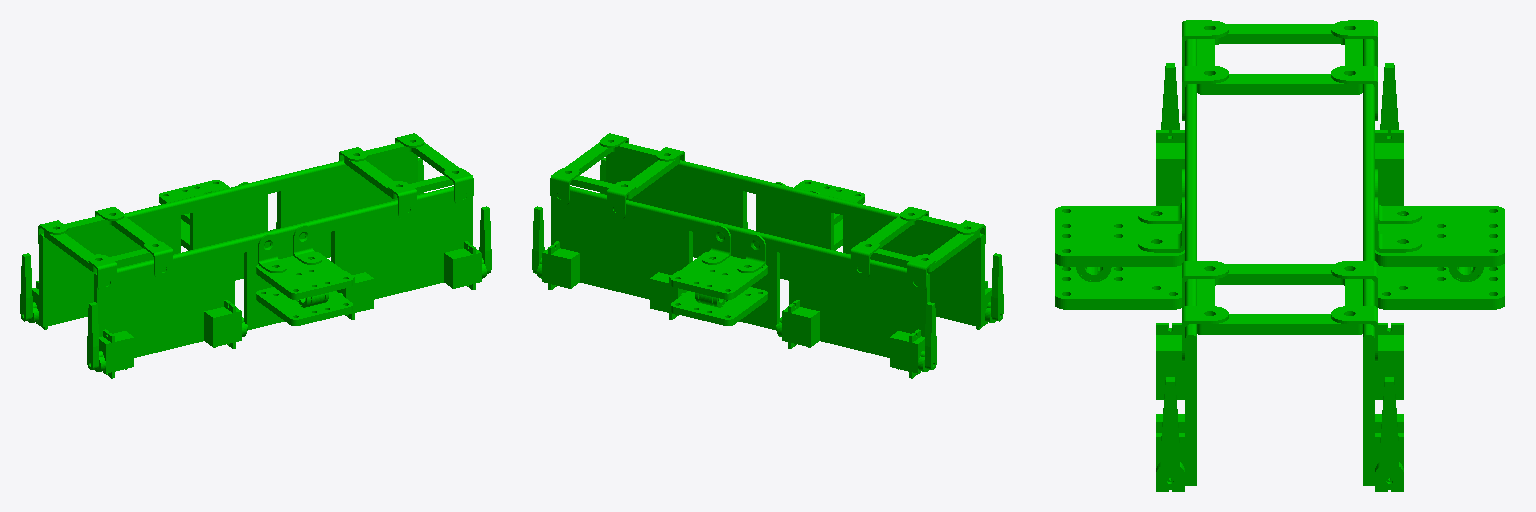
The robot description file, URDF, robot "mira":
<?xml version="1.0"?>
<robot name="mira">

    <material name="blue">
        <color rgba="0 0 0.8 1"/>
    </material>
    <material name="red">
        <color rgba="0.8 0 0 1"/>
    </material>
    <material name="green">
        <color rgba="0 0.8 0 1"/>
    </material>
    <material name="grey">
        <color rgba="0.75 0.75 0.75 1"/>
    </material>
    <material name="white">
        <color rgba="1.0 1.0 1.0 1"/>
    </material>
    <material name="black">
        <color rgba="0 0 0 1"/>
    </material>

	<!-- * * * Link Definitions * * * -->
    <link name="baseAxeR_link">

        <visual>
            <origin rpy="0 0 0" xyz="0 0.0785 0"/>
            <geometry>
                <mesh filename="package://my_egg_description/models/meshes/baseAxe.dae" />
            </geometry>
            <material name="green"/>
        </visual>
	</link>

    <link name="AxeL_link">

        <visual>
            <origin rpy="0 0 0" xyz="0 -0.0785 0"/>
            <geometry>
                <mesh filename="package://my_egg_description/models/meshes/baseAxe.dae" />
            </geometry>
            <material name="green"/>
        </visual>
	</link>

    <joint name="symetric_axe_joint" type="fixed">
    	<parent link="baseAxeR_link"/>
    	<child link="AxeL_link"/>
        <origin xyz="0 0 0" rpy="0 0 0"/>
	</joint>

    <link name="wall_link">

        <visual>
            <origin rpy="0 0 0" xyz="0 0 0.022"/>
            <geometry>
                <mesh filename="package://my_egg_description/models/meshes/wallsystem.dae" />
            </geometry>
            <material name="green"/>
        </visual>
	</link>

    <joint name="wall_joint" type="prismatic">
    	<parent link="AxeL_link"/>
    	<child link="wall_link"/>
        <origin xyz="0 0 0" rpy="0 0 0"/>
        <limit effort="0.1" velocity="0.01" lower="-0.1" upper="0.1"/>
        <axis xyz="1 0 0"/>
	</joint>

    <link name="roll_bras1_link">

        <visual>
            <origin rpy="0 0 0" xyz="0 0 0"/>
            <geometry>
                <sphere radius="0.0001" />
            </geometry>
            <material name="green"/>
        </visual>
	</link>

    <joint name="fix_roll_bras1_joint" type="fixed">
    	<parent link="wall_link"/>
    	<child link="roll_bras1_link"/>
        <origin xyz="0.15675 0.0462 -0.0092" rpy="0 0 0"/>
	</joint>

    <link name="roll_bras2_link">

        <visual>
            <origin rpy="0 0 0" xyz="0 0 0"/>
            <geometry>
                <sphere radius="0.0001" />
            </geometry>
            <material name="green"/>
        </visual>
	</link>

    <joint name="fix_roll_bras2_joint" type="fixed">
    	<parent link="wall_link"/>
    	<child link="roll_bras2_link"/>
        <origin xyz="0.15675 -0.0462 -0.0092" rpy="0 0 0"/>
	</joint>

    <link name="bras1_link">

        <visual>
            <origin rpy="0 0 0" xyz="0 0 0"/>
            <geometry>
                <mesh filename="package://my_egg_description/models/meshes/barsservo.dae" />
            </geometry>
            <material name="green"/>
        </visual>
	</link>

    <joint name="bras1_joint" type="revolute">
    	<parent link="roll_bras1_link"/>
    	<child link="bras1_link"/>
        <origin xyz="0 0 0" rpy="0 0 0"/>
        <limit lower="0.0" upper="1.5709" effort="0.1" velocity="0.01"/>
        <axis xyz="1 0 0"/>
	</joint>

    <link name="bras2_link">

        <visual>
            <origin rpy="0 0 0" xyz="0 0 0"/>
            <geometry>
                <mesh filename="package://my_egg_description/models/meshes/barsservo.dae" />
            </geometry>
            <material name="green"/>
        </visual>
	</link>

    <joint name="bras2_joint" type="revolute">
    	<parent link="roll_bras2_link"/>
    	<child link="bras2_link"/>
        <origin xyz="0 0 0" rpy="0 0 0"/>
        <limit lower="-1.5709" upper="0.0" effort="0.1" velocity="0.01"/>
        <axis xyz="1 0 0"/>
	</joint>

     <link name="roll_bras3_link">

        <visual>
            <origin rpy="0 0 0" xyz="0 0 0"/>
            <geometry>
                <sphere radius="0.0001" />
            </geometry>
            <material name="green"/>
        </visual>
	</link>

    <joint name="fix_roll_bras3_joint" type="fixed">
    	<parent link="wall_link"/>
    	<child link="roll_bras3_link"/>
        <origin xyz="-0.15675 0.0462 -0.0092" rpy="0 0 0"/>
	</joint>

    <link name="roll_bras4_link">

        <visual>
            <origin rpy="0 0 0" xyz="0 0 0"/>
            <geometry>
                <sphere radius="0.0001" />
            </geometry>
            <material name="green"/>
        </visual>
	</link>

    <joint name="fix_roll_bras4_joint" type="fixed">
    	<parent link="wall_link"/>
    	<child link="roll_bras4_link"/>
        <origin xyz="-0.15675 -0.0462 -0.0092" rpy="0 0 0"/>
	</joint>

    <link name="bras3_link">

        <visual>
            <origin rpy="0 0 0" xyz="0 0 0"/>
            <geometry>
                <mesh filename="package://my_egg_description/models/meshes/barsservo.dae" />
            </geometry>
            <material name="green"/>
        </visual>
	</link>


    <joint name="bras3_joint" type="revolute">
    	<parent link="roll_bras3_link"/>
    	<child link="bras3_link"/>
        <origin xyz="0 0 0" rpy="0 0 0"/>
        <limit lower="0.0" upper="1.5709" effort="0.1" velocity="0.01"/>
        <axis xyz="1 0 0"/>
	</joint>


    <link name="bras4_link">

        <visual>
            <origin rpy="0 0 0" xyz="0 0 0"/>
            <geometry>
                <mesh filename="package://my_egg_description/models/meshes/barsservo.dae" />
            </geometry>
            <material name="green"/>
        </visual>
	</link>



    <joint name="bras4_joint" type="revolute">
    	<parent link="roll_bras4_link"/>
    	<child link="bras4_link"/>
        <origin xyz="0 0 0" rpy="0 0 0"/>
        <limit lower="-1.5709" upper="0.0" effort="0.1" velocity="0.01"/>
        <axis xyz="1 0 0"/>
	</joint>

</robot>

--- Render facts (derived) ---
Views: 3 orthographic renders of the robot side by side, from view 1: azimuth 30°, elevation 25°; view 2: azimuth 150°, elevation 25°; view 3: azimuth 270°, elevation 25°.
Robot: mira — 11 links, 10 joints (4 revolute, 1 prismatic, 5 fixed); root link baseAxeR_link; default pose: all joints at 0.
Links seen in each view (by area): view 1: wall_link, bras3_link, bras4_link, bras2_link; view 2: wall_link, bras4_link, bras3_link, bras1_link; view 3: wall_link, bras2_link, bras1_link, bras3_link, bras4_link.
Link boxes in pixels (box(x1,y1,x2,y2)): wall_link: box(28, 133, 486, 378); bras3_link: box(20, 253, 32, 321); bras4_link: box(87, 302, 98, 369); bras2_link: box(479, 206, 491, 273); wall_link: box(537, 133, 995, 378); bras4_link: box(991, 253, 1003, 321); bras3_link: box(925, 302, 936, 369); bras1_link: box(532, 206, 544, 273); wall_link: box(1055, 20, 1504, 491); bras2_link: box(1161, 377, 1179, 488); bras1_link: box(1380, 377, 1398, 488); bras3_link: box(1380, 63, 1398, 135); bras4_link: box(1161, 63, 1179, 135).
Size in the robot's own frame: 0.3185 by 0.19 by 0.0813 metres.
5 mesh visuals loaded from 3 distinct referenced files (2 Collada DAE); not drawn: 2 (reference not matched to a file when rendering).
